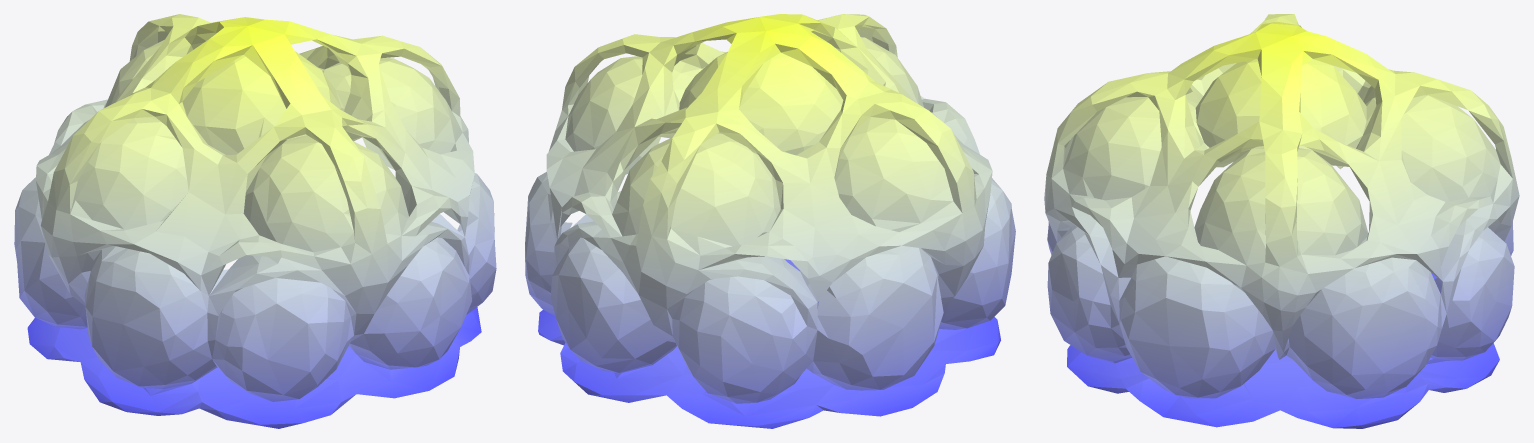
File: 126_cyb_laser_gradient_fish_scales_2912_2026_10_03_9c2f09.glb
3 views of the same model, side by side, from view 1: azimuth 30°, elevation 25°; view 2: azimuth 150°, elevation 25°; view 3: azimuth 270°, elevation 25° (orthographic).
Parts seen in each view (by area): view 1: geometry_0; view 2: geometry_0; view 3: geometry_0.
Boxes of the visible parts, box(x1,y1,x2,y2) form: geometry_0: box(14, 14, 496, 428); geometry_0: box(525, 14, 1015, 428); geometry_0: box(1044, 14, 1519, 428).
Bounding box in the file's own units: 0.9984 × 0.7002 × 0.9967.
